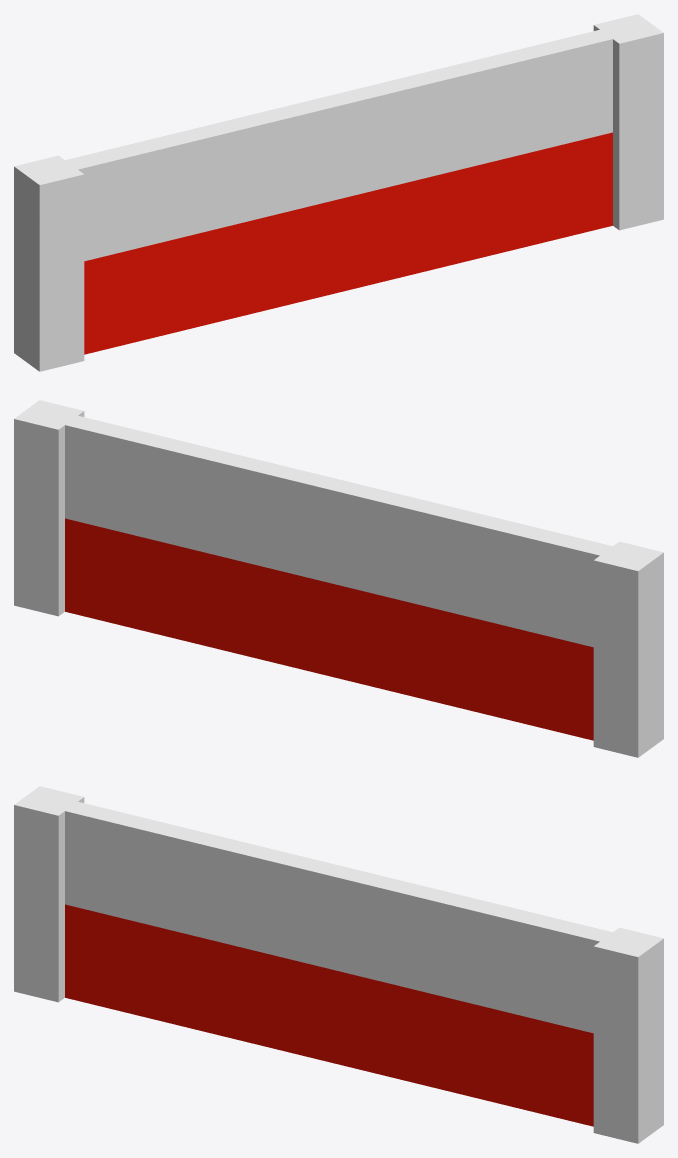
The model's file is CordonTape(Start).fbx.
3 renders of one model, top to bottom at view 1: azimuth 30°, elevation 25°; view 2: azimuth 150°, elevation 25°; view 3: azimuth 330°, elevation 25°, orthographic.
Visible parts, largest first — view 1: StreetStallRoof__11_, CordonedOffTape__14_, CordonedOffTape__13_, CordonedOffTape__12_; view 2: StreetStallRoof__11_, CordonedOffTape__14_, CordonedOffTape__13_, CordonedOffTape__12_; view 3: StreetStallRoof__11_, CordonedOffTape__14_, CordonedOffTape__12_, CordonedOffTape__13_.
Part boxes in pixels (bbox=[...]): StreetStallRoof__11_: bbox=[65, 29, 612, 261]; CordonedOffTape__14_: bbox=[84, 132, 612, 354]; CordonedOffTape__13_: bbox=[14, 155, 84, 371]; CordonedOffTape__12_: bbox=[593, 14, 663, 230]; StreetStallRoof__11_: bbox=[65, 415, 612, 647]; CordonedOffTape__14_: bbox=[65, 518, 593, 740]; CordonedOffTape__13_: bbox=[593, 541, 663, 757]; CordonedOffTape__12_: bbox=[14, 400, 84, 616]; StreetStallRoof__11_: bbox=[65, 801, 612, 1033]; CordonedOffTape__14_: bbox=[65, 904, 593, 1126]; CordonedOffTape__12_: bbox=[593, 927, 663, 1143]; CordonedOffTape__13_: bbox=[14, 786, 84, 1002].
Bounding box in the file's own units: 350 × 100 × 25.
